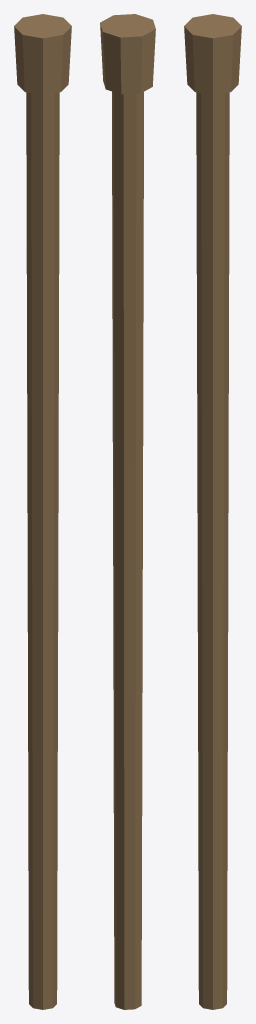
The model's file is Staff.glb.
3 renders of one model, left to right at view 1: azimuth 90°, elevation 25°; view 2: azimuth 210°, elevation 25°; view 3: azimuth 270°, elevation 25°, orthographic.
Visible parts, largest first — view 1: Staff; view 2: Staff; view 3: Staff.
Boxes of the visible parts, bbox=[...] form: Staff: bbox=[14, 14, 71, 1009]; Staff: bbox=[100, 14, 155, 1009]; Staff: bbox=[184, 14, 241, 1009].
Size of the model in its own units: 0.09 by 1.68 by 0.09.
